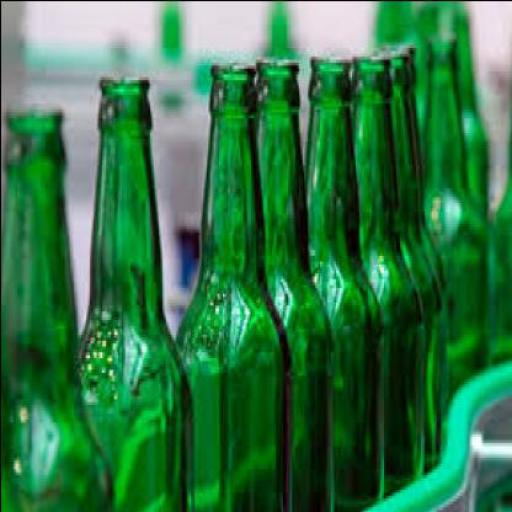glass: (176, 62, 288, 510), (80, 76, 193, 509), (1, 108, 117, 510), (304, 52, 384, 509), (256, 56, 332, 509), (350, 53, 424, 495), (384, 44, 448, 466), (422, 32, 490, 389)
